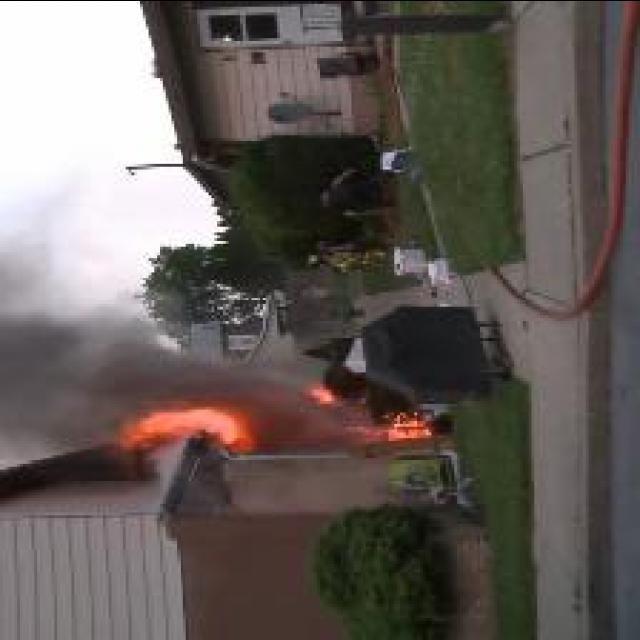Fire: (117, 404, 257, 452), (347, 409, 433, 442), (304, 386, 338, 408)
